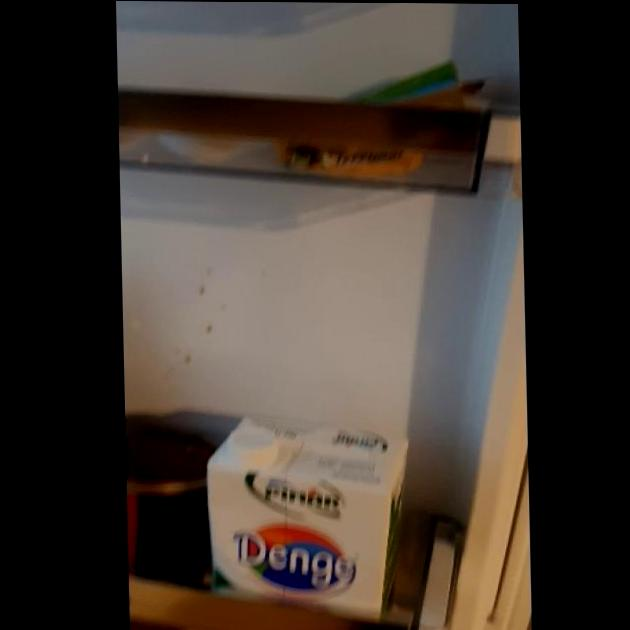milk: (202, 416, 414, 614)
